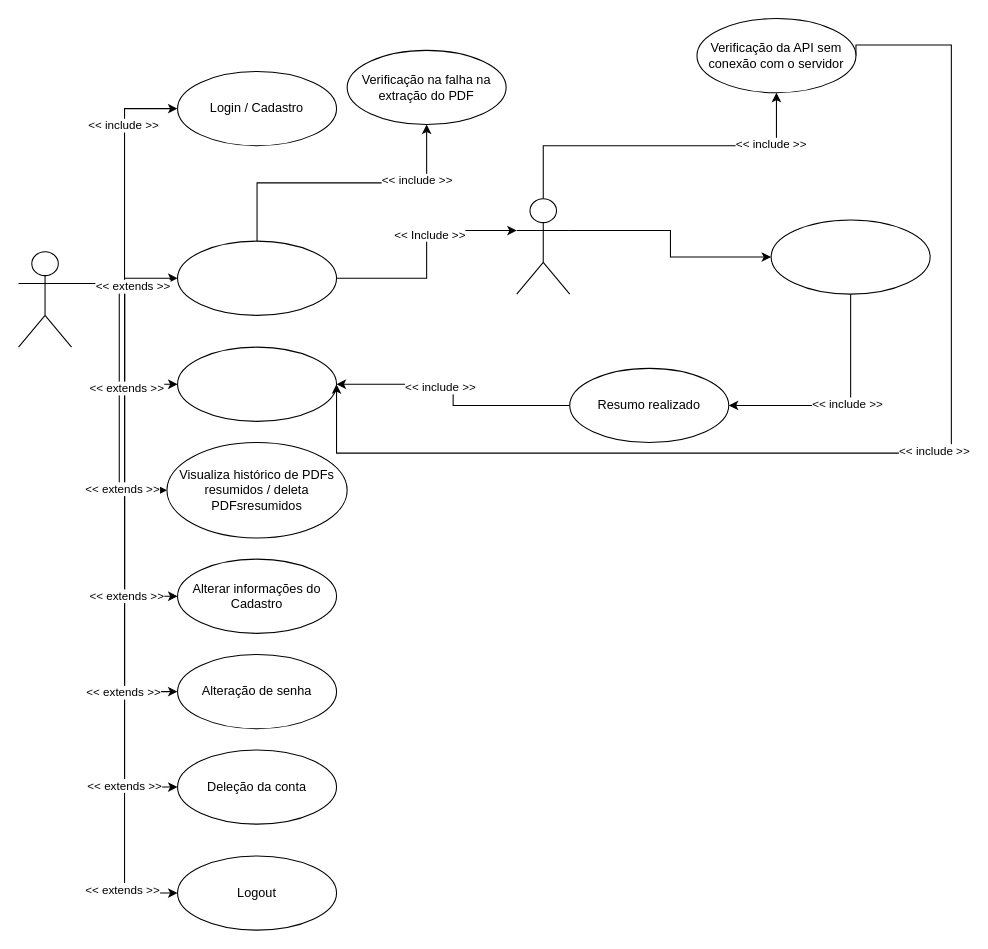
Some shapes in this 988 by 949 pixel diagram are drawn without their labels. Each missing label, with the centre of its shape:
"API (Google AI - Gemini )" belongs at pixel 543 246.
"Lê PDF e gera resumo" belongs at pixel 850 256.
"Upload do PDF" belongs at pixel 256 277.
"Usuário" belongs at pixel 44 299.
"Visualiza retorno da API" belongs at pixel 256 383.
